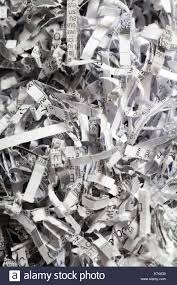paper: (100, 70, 148, 140), (5, 206, 58, 264), (122, 127, 176, 176), (1, 116, 72, 153), (10, 77, 56, 127), (56, 1, 88, 68), (17, 152, 53, 206), (44, 181, 88, 218), (65, 145, 124, 172), (61, 228, 104, 264), (111, 10, 138, 67), (128, 187, 157, 240)
